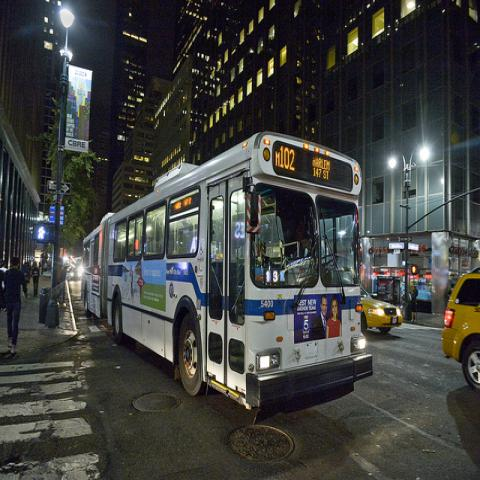bus: (77, 130, 379, 427)
car: (442, 266, 480, 391), (360, 282, 404, 333), (70, 269, 80, 280)
